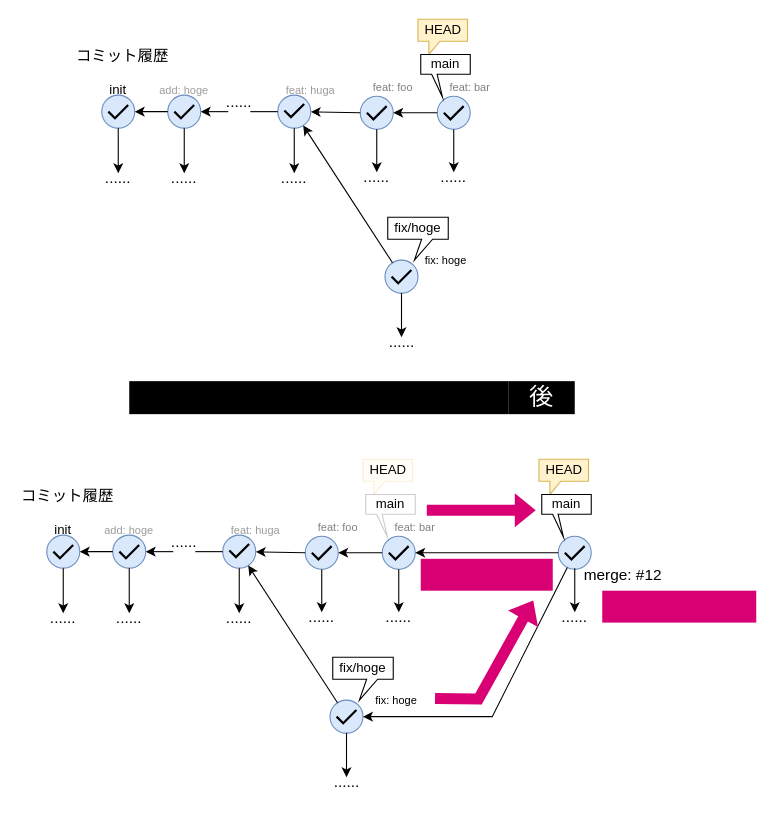
Image size: 774x817. Some labels were removed from this diagram. The shapes that lost their labels are listed below. From the top down, each one's centre as x and y in pixels, then its label:
At [318,397]: "git merge fix/hoge".
At [486,574]: "merge commit".
At [679,606]: "両方の変更を持つ".
